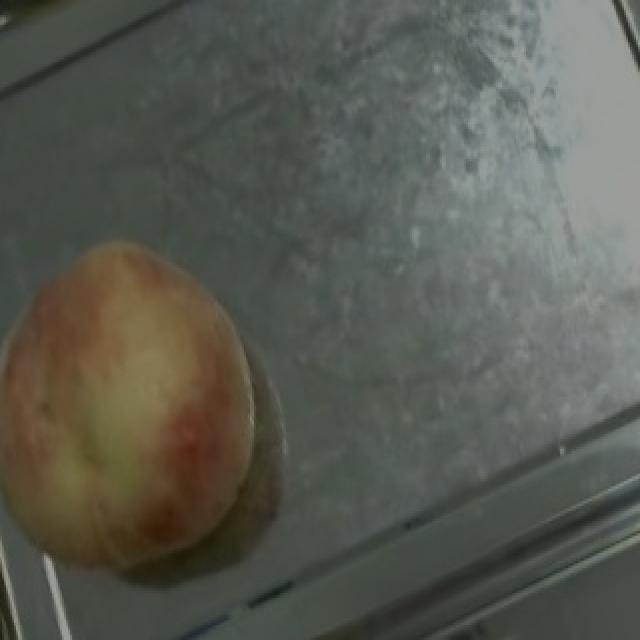Fruit: (0, 203, 302, 536)
